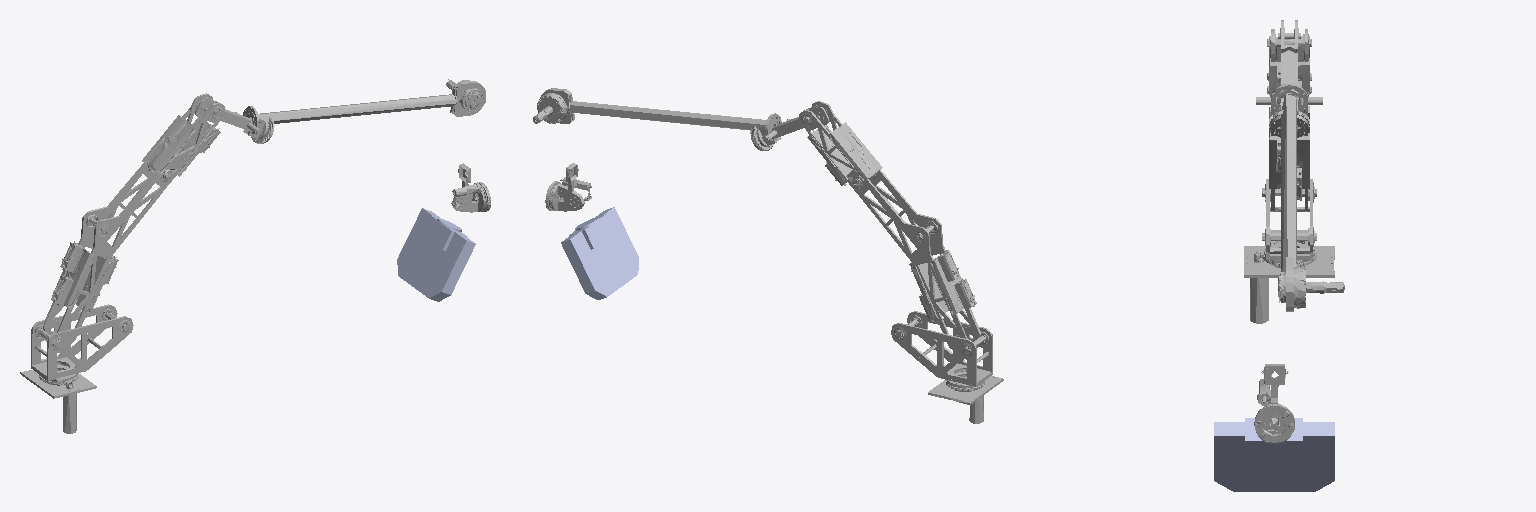
URDF robot description (arm_urdf):
<?xml version="1.0" encoding="utf-8"?>
<!-- This URDF was automatically created by SolidWorks to URDF Exporter! Originally created by [author] ([email redacted]) 
     Commit Version: 1.6.0-4-g7f85cfe  Build Version: 1.6.7995.38578
     For more information, please see http://wiki.ros.org/sw_urdf_exporter -->
<robot
  name="arm_urdf">
  <link
    name="Link_1">
    <inertial>
      <origin
        xyz="0.00622341511954164 -0.00916820792441791 -0.0469349641137912"
        rpy="0 0 0" />
      <mass
        value="3.33097898163857" />
      <inertia
        ixx="0.0101819650222787"
        ixy="-1.98734712904888E-07"
        ixz="-8.66271809934504E-05"
        iyy="0.00358872310944578"
        iyz="-2.39587965010669E-06"
        izz="0.00949532820710057" />
    </inertial>
    <visual>
      <origin
        xyz="0 0 0"
        rpy="0 0 0" />
      <geometry>
        <mesh
          filename="package://arm_urdf/meshes/visual/Link_1.STL" />
      </geometry>
      <material
        name="">
        <color
          rgba="0.752941176470588 0.752941176470588 0.752941176470588 1" />
      </material>
    </visual>
    <collision>
      <origin
        xyz="0 0 0"
        rpy="0 0 0" />
      <geometry>
        <mesh
          filename="package://arm_urdf/meshes/collision/Link_1.STL" />
      </geometry>
    </collision>
  </link>
  <link
    name="Link_2">
    <inertial>
      <origin
        xyz="0.060972336777117 -1.36723296035798E-05 0.0647576977642935"
        rpy="0 0 0" />
      <mass
        value="0.516253747755485" />
      <inertia
        ixx="0.000613480594305293"
        ixy="5.38160003974242E-19"
        ixz="-0.000275510697436789"
        iyy="0.0023924326610652"
        iyz="2.3245534780382E-20"
        izz="0.00218490294968333" />
    </inertial>
    <visual>
      <origin
        xyz="0 0 0"
        rpy="0 0 0" />
      <geometry>
        <mesh
          filename="package://arm_urdf/meshes/visual/Link_2.STL" />
      </geometry>
      <material
        name="">
        <color
          rgba="0.752941176470588 0.752941176470588 0.752941176470588 1" />
      </material>
    </visual>
    <collision>
      <origin
        xyz="0 0 0"
        rpy="0 0 0" />
      <geometry>
        <mesh
          filename="package://arm_urdf/meshes/collision/Link_2.STL" />
      </geometry>
    </collision>
  </link>
  <joint
    name="Joint_1"
    type="continuous">
    <origin
      xyz="0 0 0.027113"
      rpy="0 0 0" />
    <parent
      link="Link_1" />
    <child
      link="Link_2" />
    <axis
      xyz="0 0 1" />
  </joint>
  <link
    name="Link_3">
    <inertial>
      <origin
        xyz="0.248052997344685 -2.92185847471094E-06 0.265955531896042"
        rpy="0 0 0" />
      <mass
        value="1.93524935633317" />
      <inertia
        ixx="0.0382135022216721"
        ixy="-4.49867345730304E-16"
        ixz="-0.0451188810097449"
        iyy="0.099274210856537"
        iyz="-3.34175860324251E-16"
        izz="0.0611945626947677" />
    </inertial>
    <visual>
      <origin
        xyz="0 0 0"
        rpy="0 0 0" />
      <geometry>
        <mesh
          filename="package://arm_urdf/meshes/visual/Link_3.STL" />
      </geometry>
      <material
        name="">
        <color
          rgba="0.752941176470588 0.752941176470588 0.752941176470588 1" />
      </material>
    </visual>
    <collision>
      <origin
        xyz="0 0 0"
        rpy="0 0 0" />
      <geometry>
        <mesh
          filename="package://arm_urdf/meshes/collision/Link_3.STL" />
      </geometry>
    </collision>
  </link>
  <joint
    name="Joint_2"
    type="continuous">
    <origin
      xyz="0 0 0.1"
      rpy="0 0 0" />
    <parent
      link="Link_2" />
    <child
      link="Link_3" />
    <axis
      xyz="0 -1 0" />
  </joint>
  <link
    name="Link_4">
    <inertial>
      <origin
        xyz="-0.0241622970765439 -0.000145725953688065 0.0139342486656481"
        rpy="0 0 0" />
      <mass
        value="0.798545293139664" />
      <inertia
        ixx="0.000725346582901255"
        ixy="-9.25632625871902E-07"
        ixz="0.000642244287450308"
        iyy="0.00182700177776413"
        iyz="5.34067929115977E-07"
        izz="0.00146510835419295" />
    </inertial>
    <visual>
      <origin
        xyz="0 0 0"
        rpy="0 0 0" />
      <geometry>
        <mesh
          filename="package://arm_urdf/meshes/visual/Link_4.STL" />
      </geometry>
      <material
        name="">
        <color
          rgba="0.752941176470588 0.752941176470588 0.752941176470588 1" />
      </material>
    </visual>
    <collision>
      <origin
        xyz="0 0 0"
        rpy="0 0 0" />
      <geometry>
        <mesh
          filename="package://arm_urdf/meshes/collision/Link_4.STL" />
      </geometry>
    </collision>
  </link>
  <joint
    name="Joint_3"
    type="continuous">
    <origin
      xyz="0.55801 0 0.46651"
      rpy="0 0 0" />
    <parent
      link="Link_3" />
    <child
      link="Link_4" />
    <axis
      xyz="0 -1 0" />
  </joint>
  <link
    name="Link_5">
    <inertial>
      <origin
        xyz="0.54652151239787 0.0045965233223425 -0.315526632247381"
        rpy="0 0 0" />
      <mass
        value="1.41995187784121" />
      <inertia
        ixx="0.00275531148319508"
        ixy="6.91162703332479E-08"
        ixz="0.00393052302354834"
        iyy="0.00983380816136502"
        iyz="-1.19451574736834E-08"
        izz="0.00729337097705166" />
    </inertial>
    <visual>
      <origin
        xyz="0 0 0"
        rpy="0 0 0" />
      <geometry>
        <mesh
          filename="package://arm_urdf/meshes/visual/Link_5.STL" />
      </geometry>
      <material
        name="">
        <color
          rgba="0.752941176470588 0.752941176470588 0.752941176470588 1" />
      </material>
    </visual>
    <collision>
      <origin
        xyz="0 0 0"
        rpy="0 0 0" />
      <geometry>
        <mesh
          filename="package://arm_urdf/meshes/collision/Link_5.STL" />
      </geometry>
    </collision>
  </link>
  <joint
    name="Joint_4"
    type="continuous">
    <origin
      xyz="-0.020934 -0.00015536 0.012086"
      rpy="0 0 0" />
    <parent
      link="Link_4" />
    <child
      link="Link_5" />
    <axis
      xyz="-0.86603 0 0.5" />
  </joint>
  <link
    name="Link_6">
    <inertial>
      <origin
        xyz="-0.00885742110815235 -0.0330787531924534 -0.0330128346122342"
        rpy="0 0 0" />
      <mass
        value="0.462055180258125" />
      <inertia
        ixx="0.000186526424548505"
        ixy="1.01051408727741E-06"
        ixz="4.85716237256025E-05"
        iyy="0.000186429229057267"
        iyz="-5.92211171029459E-07"
        izz="0.000242741841550989" />
    </inertial>
    <visual>
      <origin
        xyz="0 0 0"
        rpy="0 0 0" />
      <geometry>
        <mesh
          filename="package://arm_urdf/meshes/visual/Link_6.STL" />
      </geometry>
      <material
        name="">
        <color
          rgba="0.752941176470588 0.752941176470588 0.752941176470588 1" />
      </material>
    </visual>
    <collision>
      <origin
        xyz="0 0 0"
        rpy="0 0 0" />
      <geometry>
        <mesh
          filename="package://arm_urdf/meshes/collision/Link_6.STL" />
      </geometry>
    </collision>
  </link>
  <joint
    name="Joint_5"
    type="continuous">
    <origin
      xyz="0.63746 0 -0.36804"
      rpy="0 0 0" />
    <parent
      link="Link_5" />
    <child
      link="Link_6" />
    <axis
      xyz="0 -1 0" />
  </joint>
  <link
    name="Link_7">
    <inertial>
      <origin
        xyz="-0.0202239496006344 2.28289609438548E-15 -0.0350289082380117"
        rpy="0 0 0" />
      <mass
        value="1.47639025500324" />
      <inertia
        ixx="0.00879392218461711"
        ixy="1.12722455111749E-17"
        ixz="-0.00170541271279087"
        iyy="0.00431422034842634"
        iyz="-7.58974100183454E-18"
        izz="0.00682468120699871" />
    </inertial>
    <visual>
      <origin
        xyz="0 0 0"
        rpy="0 0 0" />
      <geometry>
        <mesh
          filename="package://arm_urdf/meshes/visual/Link_7.STL" />
      </geometry>
      <material
        name="">
        <color
          rgba="0.792156862745098 0.819607843137255 0.933333333333333 1" />
      </material>
    </visual>
    <collision>
      <origin
        xyz="0 0 0"
        rpy="0 0 0" />
      <geometry>
        <mesh
          filename="package://arm_urdf/meshes/collision/Link_7.STL" />
      </geometry>
    </collision>
  </link>
  <joint
    name="Joint_6"
    type="continuous">
    <origin
      xyz="-0.05445 -0.028588 -0.09431"
      rpy="0 0 0" />
    <parent
      link="Link_6" />
    <child
      link="Link_7" />
    <axis
      xyz="0.5 0 0.86603" />
  </joint>
</robot>

--- Render facts (derived) ---
Views: 3 orthographic renders of the robot side by side, from view 1: azimuth 30°, elevation 25°; view 2: azimuth 150°, elevation 25°; view 3: azimuth 270°, elevation 25°.
Model arm_urdf with 7 links and 6 joints (6 continuous), rooted at Link_1, posed all joints at 0.
Links seen in each view (by area): view 1: Link_3, Link_7, Link_2, Link_5, Link_1, Link_6, Link_4; view 2: Link_3, Link_7, Link_2, Link_5, Link_1, Link_6, Link_4; view 3: Link_7, Link_5, Link_3, Link_1, Link_6, Link_4, Link_2.
Boxes of the visible links, box(x1,y1,x2,y2) form: Link_3: box(43, 93, 224, 345); Link_7: box(397, 208, 475, 301); Link_2: box(31, 304, 133, 380); Link_5: box(243, 79, 485, 133); Link_1: box(20, 365, 96, 433); Link_6: box(451, 163, 490, 212); Link_4: box(190, 96, 274, 143); Link_3: box(799, 101, 980, 351); Link_7: box(561, 207, 638, 299); Link_2: box(891, 311, 992, 386); Link_5: box(533, 88, 781, 140); Link_1: box(928, 371, 1003, 423); Link_6: box(545, 163, 591, 211); Link_4: box(750, 103, 833, 150); Link_7: box(1214, 418, 1334, 491); Link_5: box(1271, 84, 1344, 311); Link_3: box(1267, 29, 1311, 211); Link_1: box(1244, 242, 1334, 323); Link_6: box(1254, 364, 1294, 442); Link_4: box(1256, 20, 1322, 137); Link_2: box(1262, 179, 1316, 259).
Bounding box of the posed robot: 1.33 × 0.249 × 0.8215 m (x, y, z).
Meshes: 7 distinct files referenced, 7 mesh visuals loaded (7 binary STL).